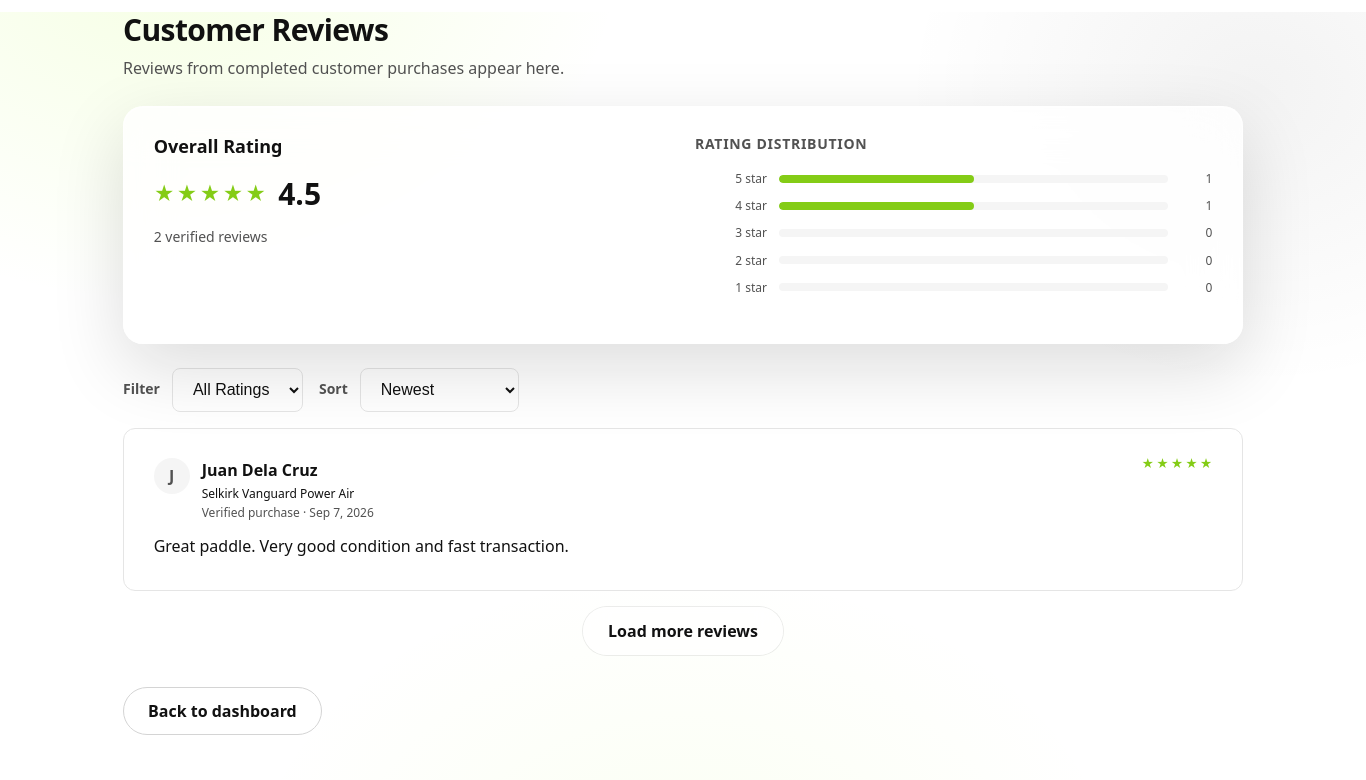
Test case: SellerReviewsPage › loads the next page when load more is clicked
Expected: the text "Juan Dela Cruz" is shown, [202,459,318,481]
Click the button "Load more reviews" at (683, 631), box [583,606,783,655]
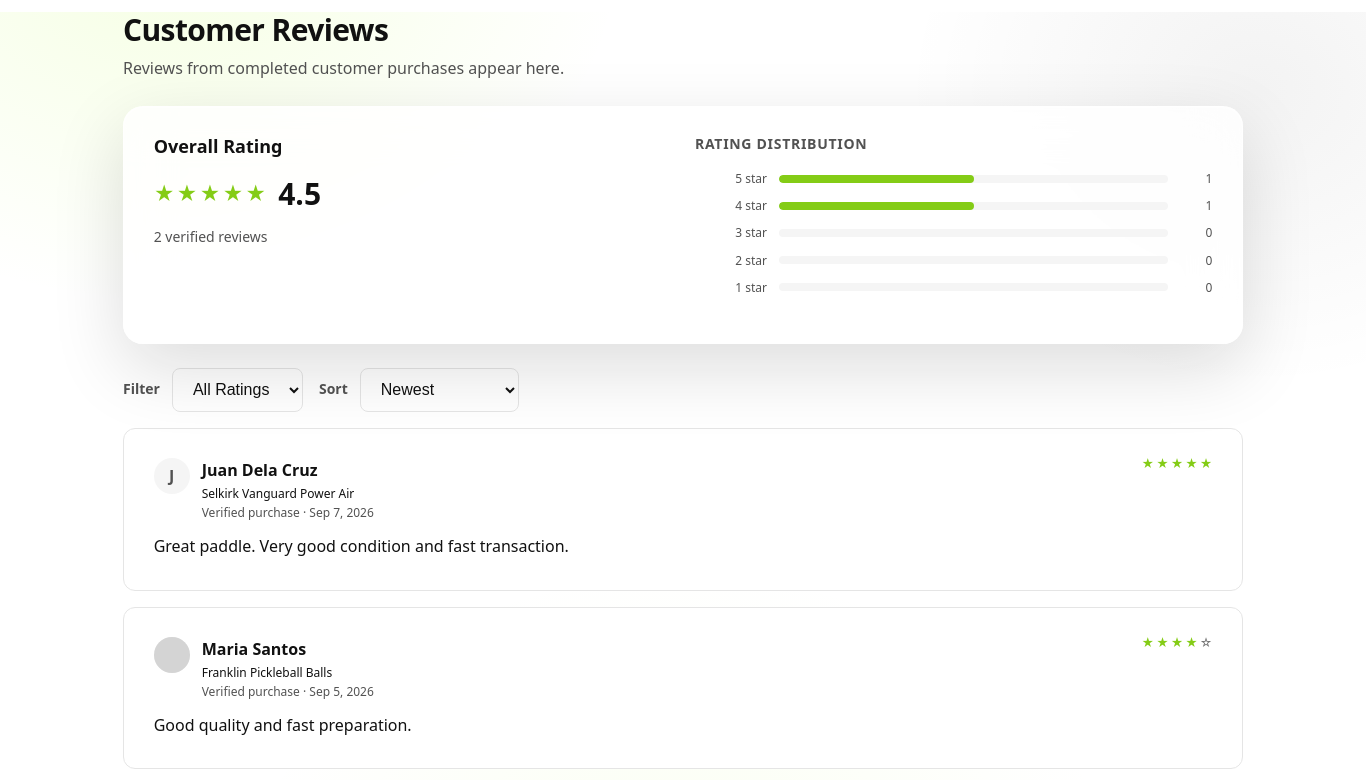
Expected: the text "Maria Santos" is shown, [202,638,306,660]
